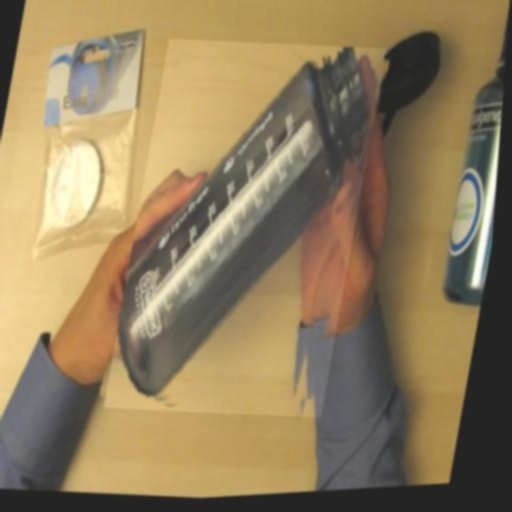bottle: (108, 30, 388, 432)
